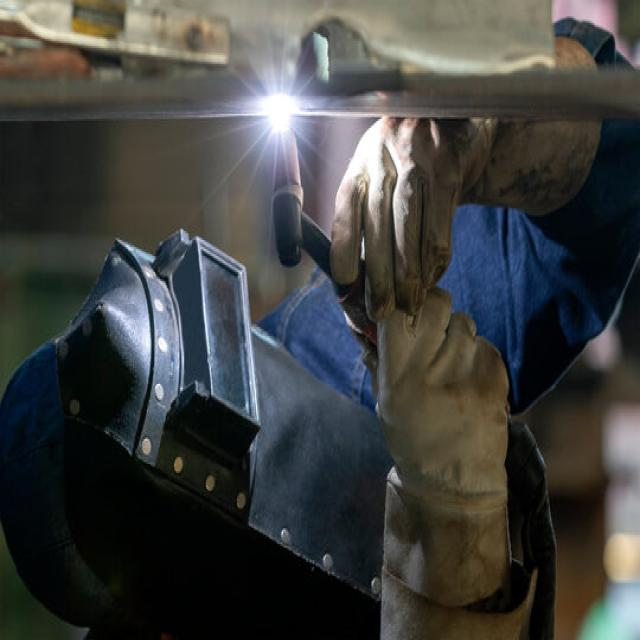welding: (261, 94, 295, 134)
